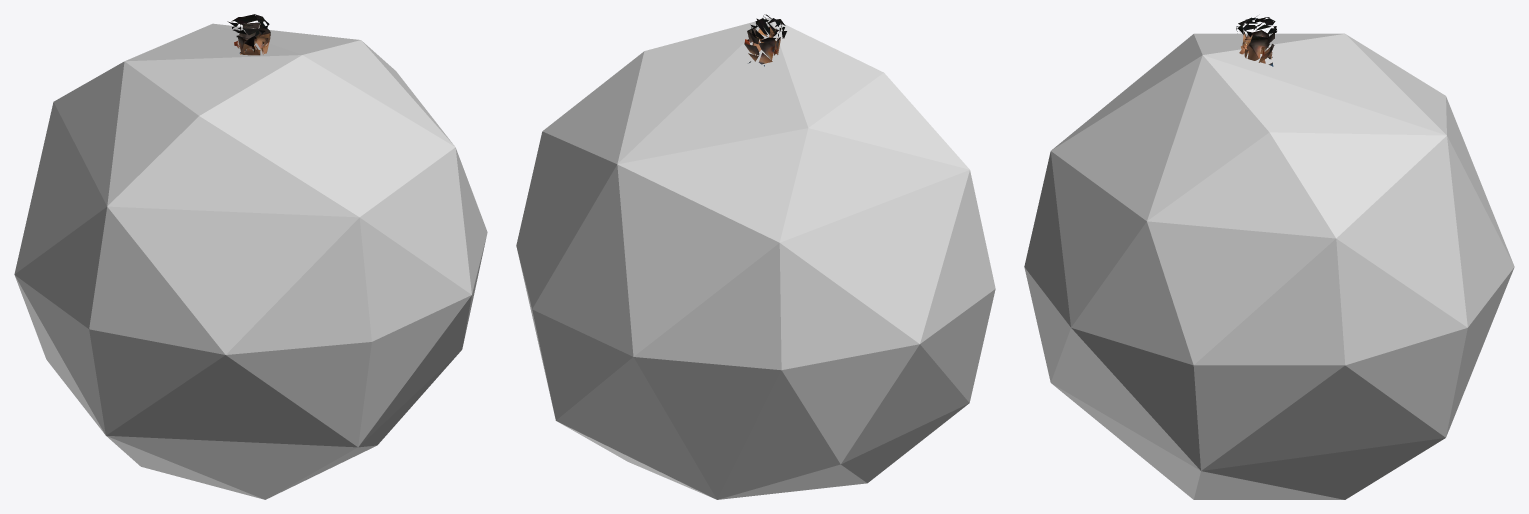
Rendered from fan05.glb.
3 renders of one model, left to right at view 1: azimuth 30°, elevation 25°; view 2: azimuth 150°, elevation 25°; view 3: azimuth 270°, elevation 25°, orthographic.
Parts seen in each view (by area): view 1: material_proxy; view 2: material_proxy; view 3: material_proxy.
Part boxes in pixels (box(x1,y1,x2,y2)): material_proxy: box(14, 14, 487, 499); material_proxy: box(516, 14, 995, 499); material_proxy: box(1024, 16, 1514, 499).
Bounding box in the file's own units: 1.9 × 2.11 × 2.
1 material, 1 textured.
